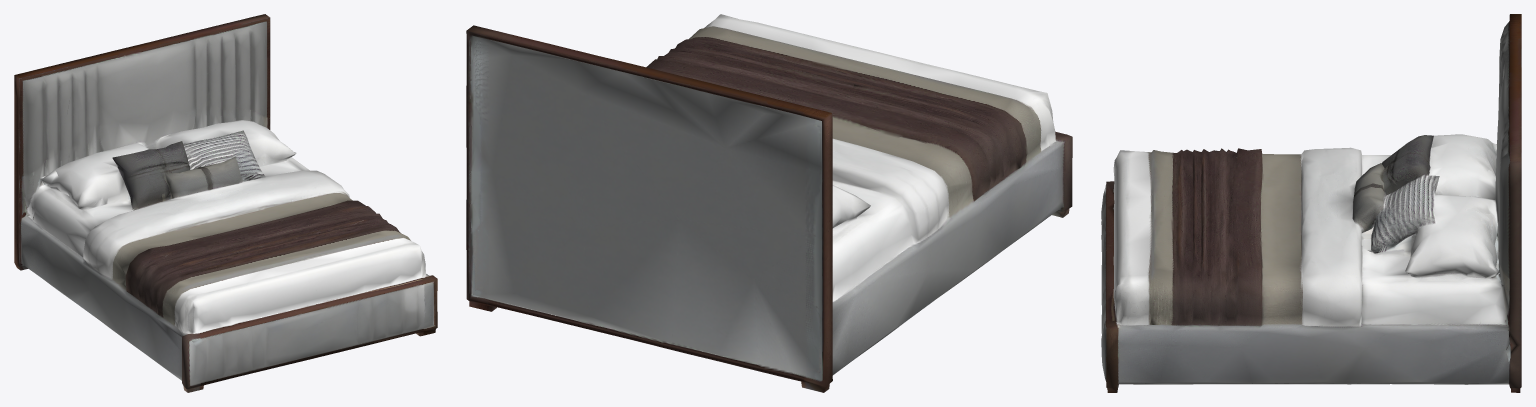
Rendered from 218f416a-966a-4c27-8ca3-9e9bfdd63605.glb.
3 views of the same model, side by side, from view 1: azimuth 30°, elevation 25°; view 2: azimuth 150°, elevation 25°; view 3: azimuth 270°, elevation 25° (orthographic). The views are drawn at different scales.
Size of the model in its own units: 1.59 by 1.17 by 1.91.
1 material, 1 textured.
